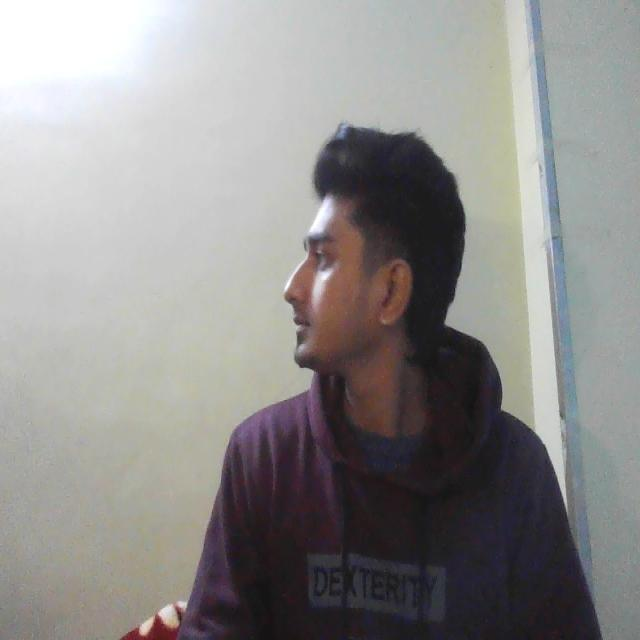real: (292, 153, 406, 368)
